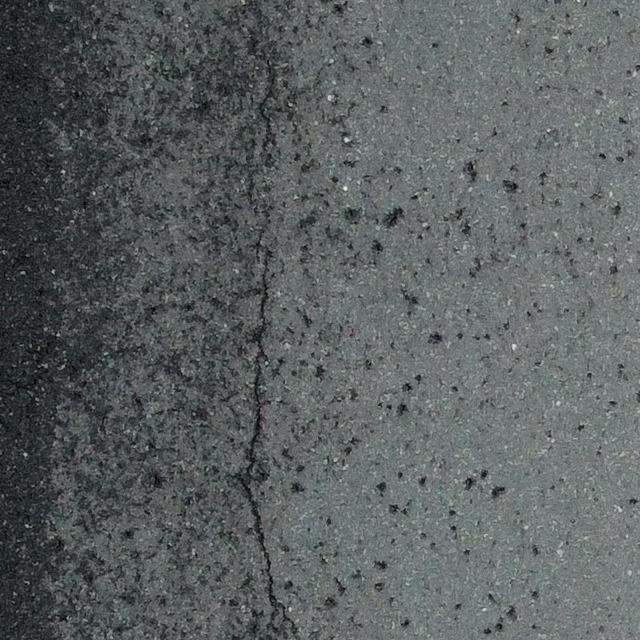LongitudinalCrack: (236, 42, 293, 627)
